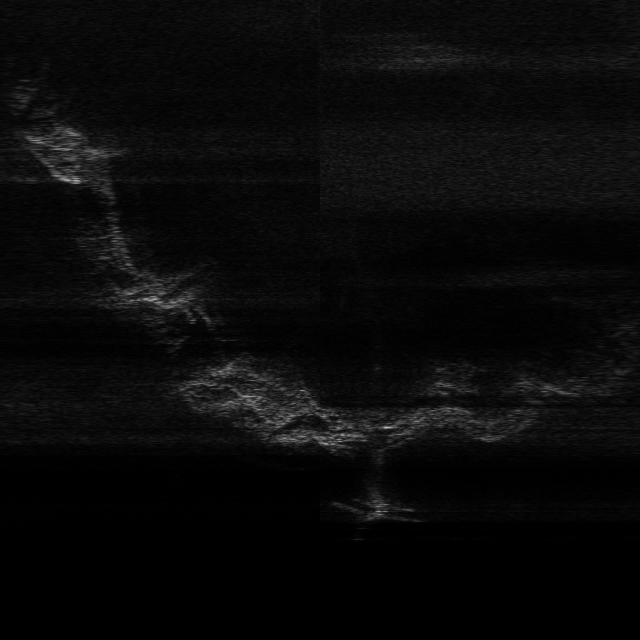plane: (331, 493, 432, 526)
